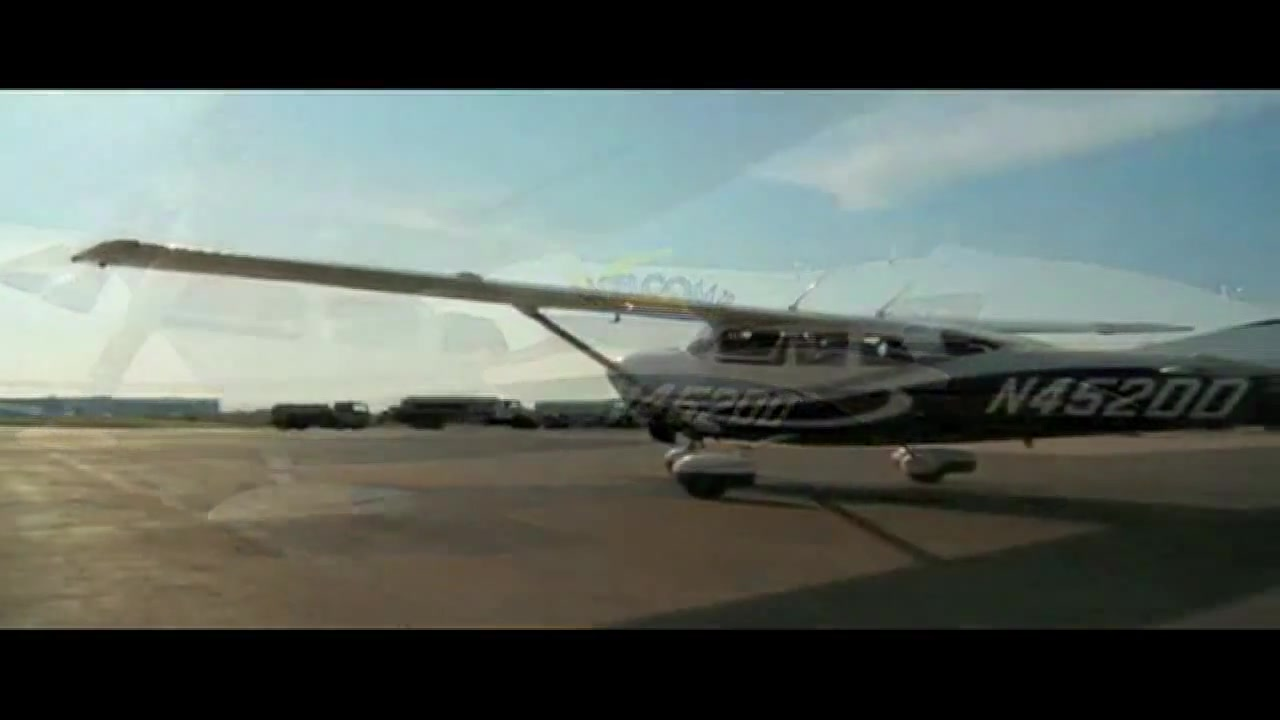aeroplane: (73, 232, 1280, 514)
